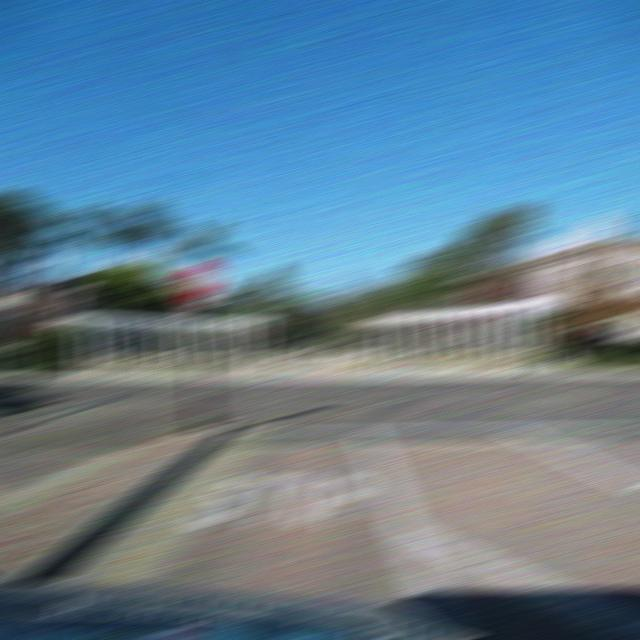stop_sign: (174, 260, 220, 300)
